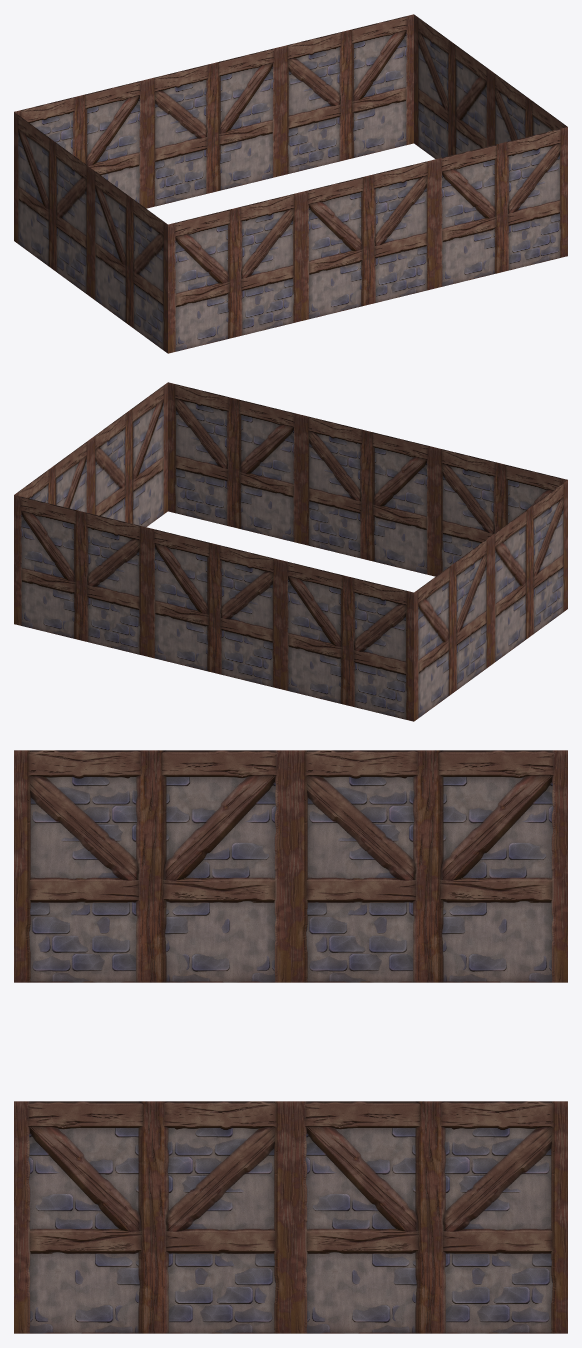
The model's file is wall_rejunte_up2x3.fbx.
3 views of the same model, one above another, from view 1: azimuth 30°, elevation 25°; view 2: azimuth 150°, elevation 25°; view 3: azimuth 270°, elevation 25° (orthographic). The views are drawn at different scales.
Parts seen in each view (by area): view 1: parede_Rejunte_Cima3x2; view 2: parede_Rejunte_Cima3x2; view 3: parede_Rejunte_Cima3x2.
Part boxes in pixels (x1,y1,x2,y2): parede_Rejunte_Cima3x2: [14, 14, 567, 353]; parede_Rejunte_Cima3x2: [14, 382, 567, 721]; parede_Rejunte_Cima3x2: [14, 750, 567, 1333].
Size of the model in its own units: 449 by 139 by 299.
